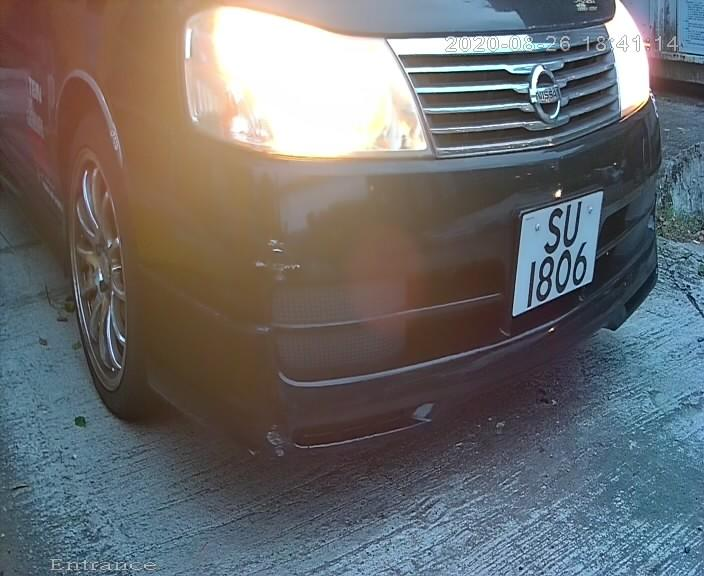License Plate: (503, 175, 614, 331)
